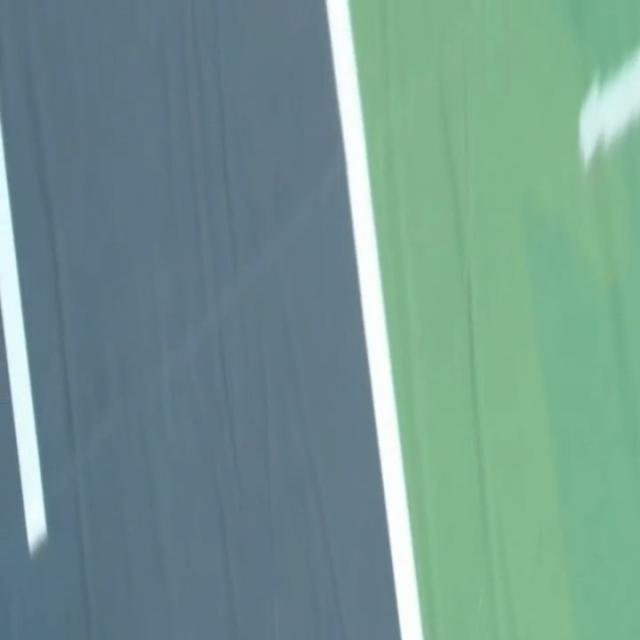center: (0, 112, 46, 556)
right: (326, 0, 422, 639)
